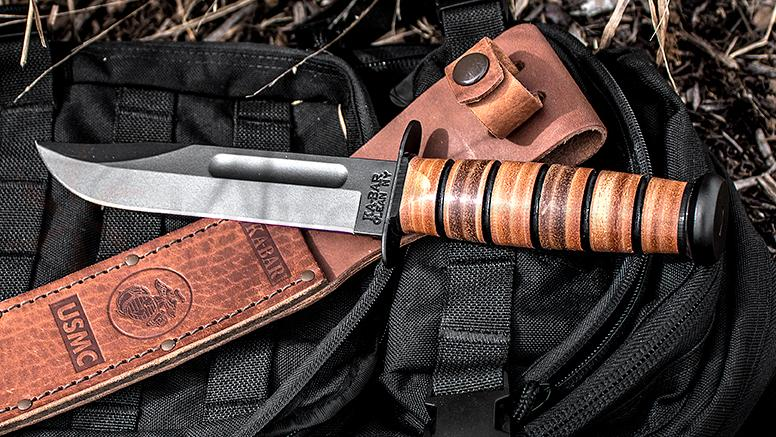knife: (26, 126, 428, 263)
